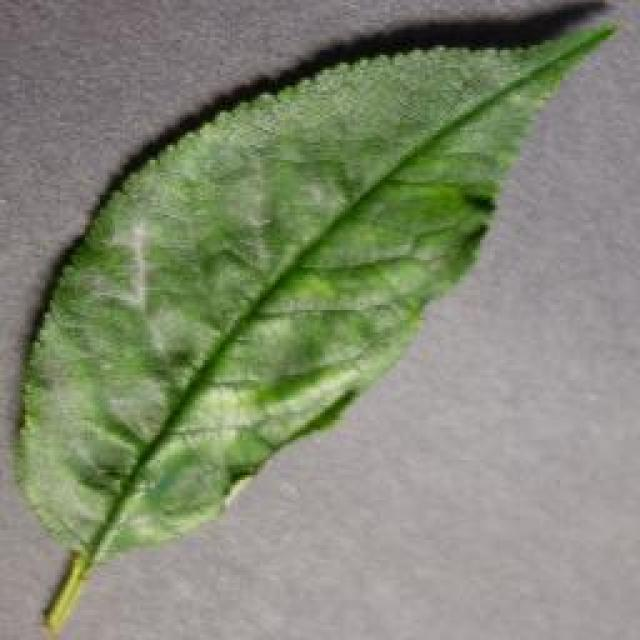Cherry___Powdery_mildew: (0, 2, 628, 640)
